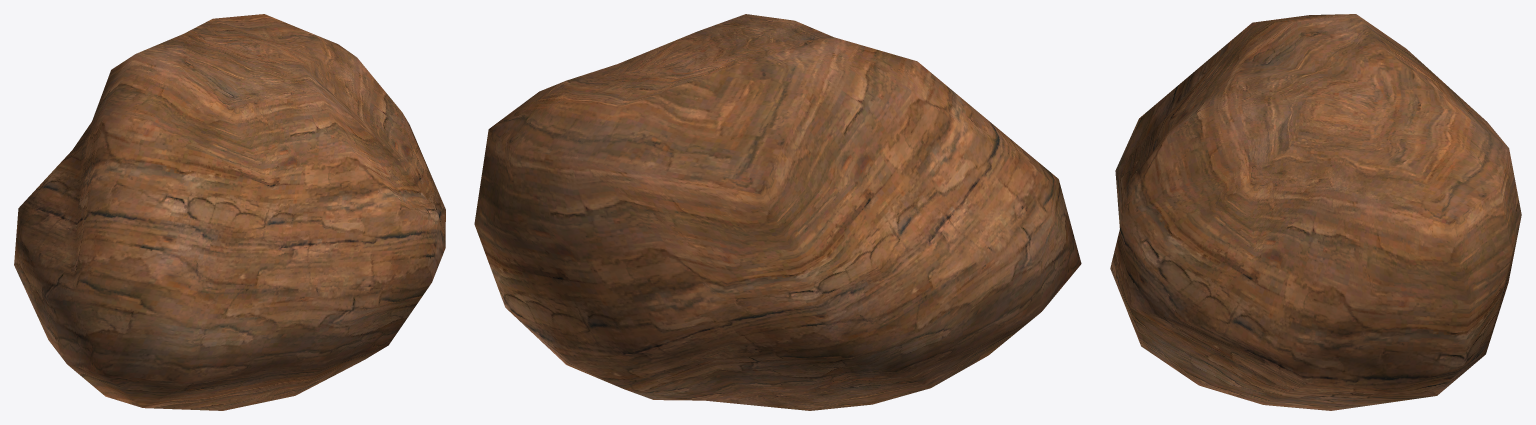
The model's file is rock_tatt_jundland_boulder_a1_l0.fbx.
3 views of the same model, side by side, from view 1: azimuth 30°, elevation 25°; view 2: azimuth 150°, elevation 25°; view 3: azimuth 270°, elevation 25° (orthographic). The views are drawn at different scales.
Parts seen in each view (by area): view 1: mesh_node; view 2: mesh_node; view 3: mesh_node.
Part boxes in pixels (x1,y1,x2,y2): mesh_node: (14, 14, 445, 410); mesh_node: (474, 14, 1081, 410); mesh_node: (1110, 14, 1521, 410).
Bounding box in the file's own units: 3.38 × 2.5 × 2.8.
